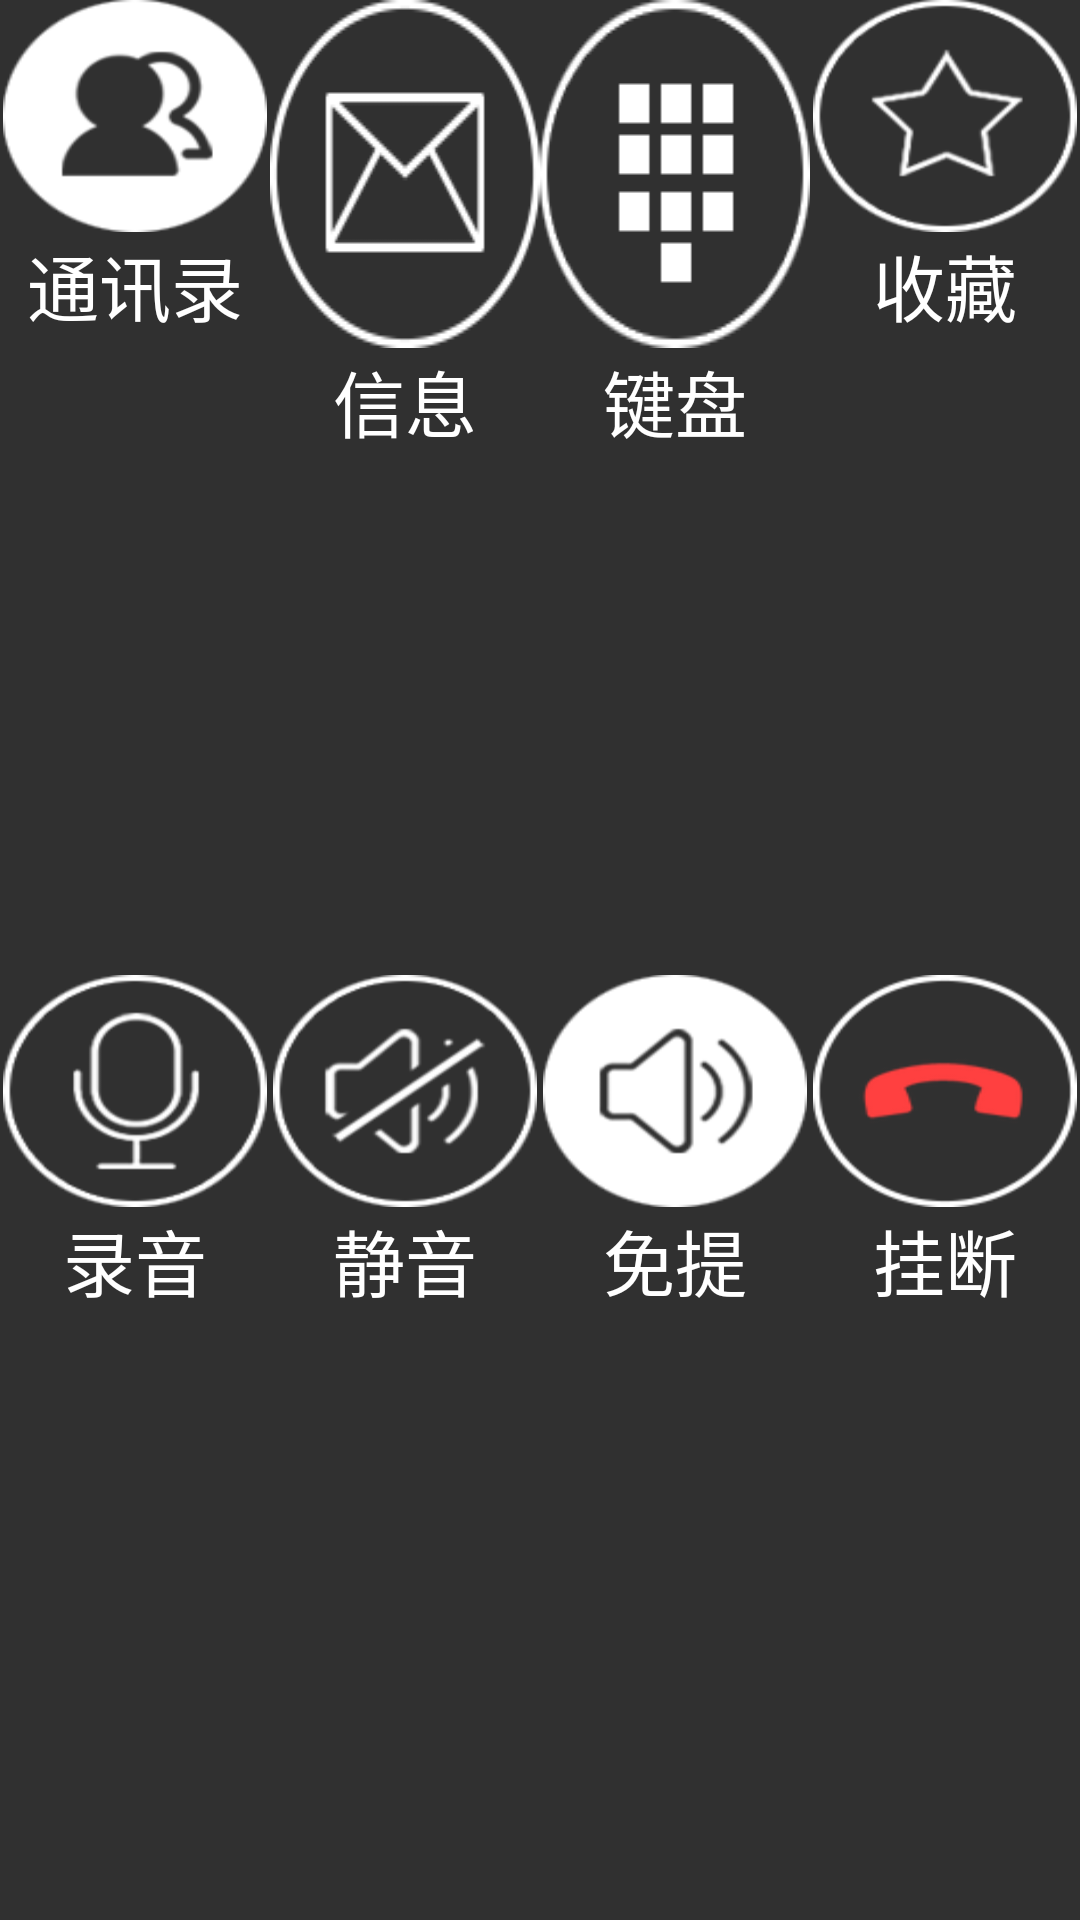

Icons on this 1080×1920 Android screen, each with its box as box=[x1, y1, x2, y2]:
phone answer keyboard: box=[618, 83, 734, 283]
